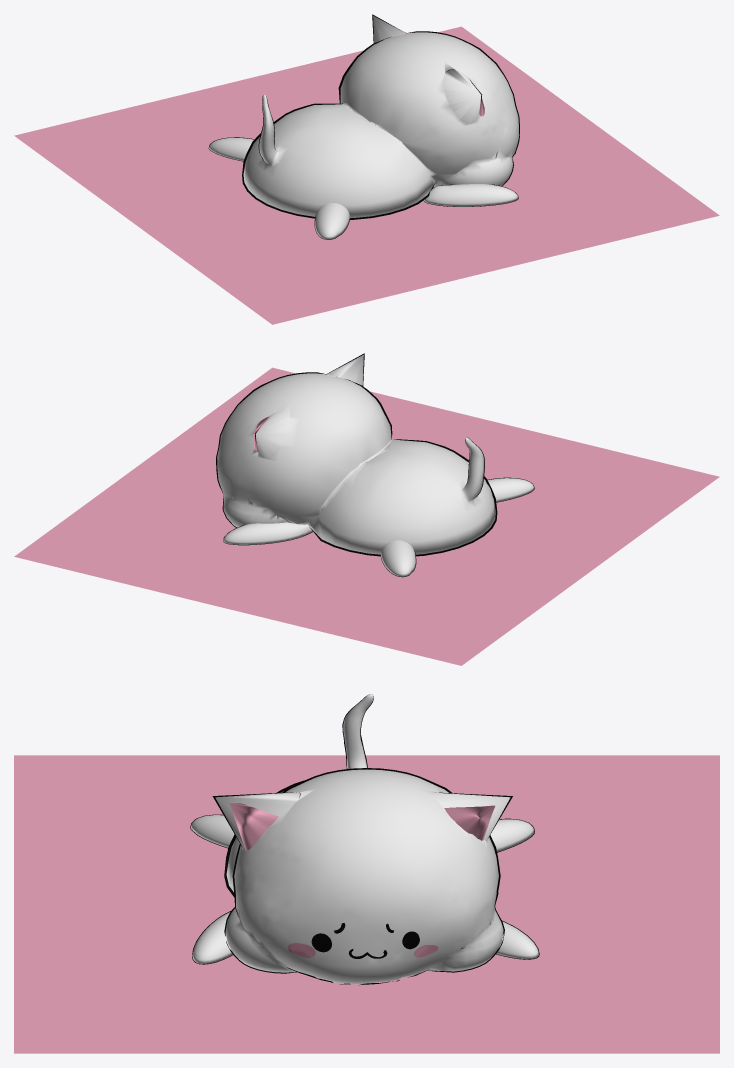
Rendered from nekochan_the_jelly_cat.glb.
3 views of the same model, one above another, from view 1: azimuth 30°, elevation 25°; view 2: azimuth 150°, elevation 25°; view 3: azimuth 270°, elevation 25° (orthographic). The views are drawn at different scales.
Parts seen in each view (by area): view 1: Plane_13, Sphere_6, Sphere.003_14; view 2: Plane_13, Sphere_6, Sphere.003_14; view 3: Plane_13, Sphere_6, Sphere.003_14, Cone.001_7, Cone.002_8.
Part boxes in pixels (<box>): Plane_13: <box>14,26,719,324</box>; Sphere_6: <box>209,16,519,239</box>; Sphere.003_14: <box>208,14,519,239</box>; Plane_13: <box>14,367,719,665</box>; Sphere_6: <box>217,354,534,576</box>; Sphere.003_14: <box>216,353,534,577</box>; Plane_13: <box>14,755,719,1053</box>; Sphere_6: <box>191,694,538,984</box>; Sphere.003_14: <box>190,694,539,985</box>; Cone.001_7: <box>229,803,278,850</box>; Cone.002_8: <box>444,805,495,840</box>.
Bounding box in the file's own units: 8.8 × 2.29 × 8.8.
